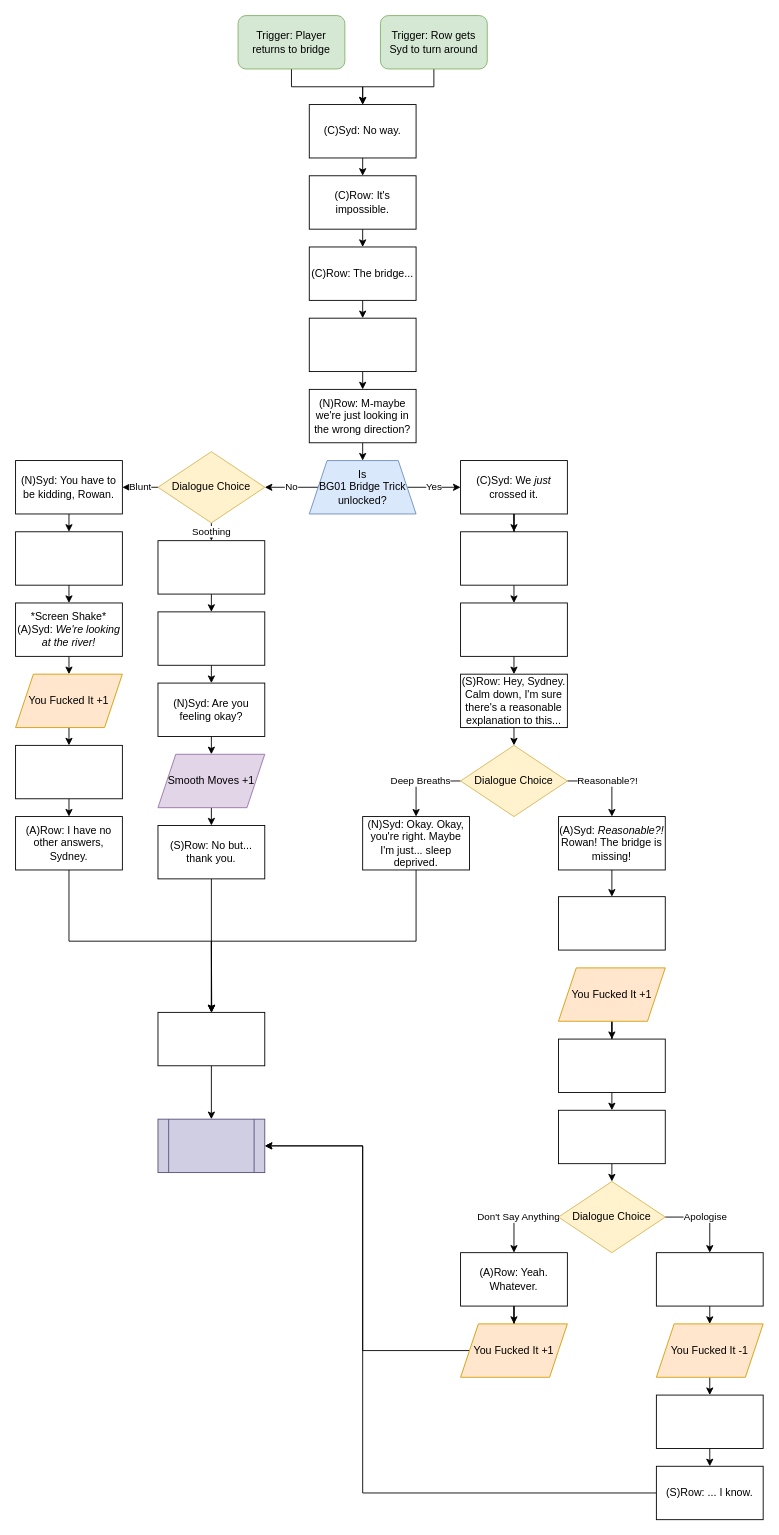
This 779x1535 diagram has some shape labels left out. Each missing label, with the centre of its shape:
(A)Row: I know . I just have no idea how an entire bridge disappears.: [68,771]
(A)Row: You don't think I'm freaking out?!: [611,1136]
(A)Syd: Don't tell me to be reasonable right now. God.: [611,923]
(N)Row: You don't think I'm scared?: [611,1065]
(N)Syd: "The wrong direction"?: [68,558]
(N)Syd: Come on. Let's try a different route.: [211,1038]
(N)Syd: It should be here...: [513,558]
(N)Syd: Maybe we've... taken the wrong path or something.: [211,638]
(N)Syd: No. I don't think so. But let's not panic right now. Okay?: [211,567]
(S)Syd: I'm sorry.: [709,1279]
(S)Syd: This is all just...: [709,1421]
*Screen Shake* (D)Syd: It's gone ?!: [362,344]
*Screen Shake* (D)Syd: Why isn't it here?!?: [513,629]
